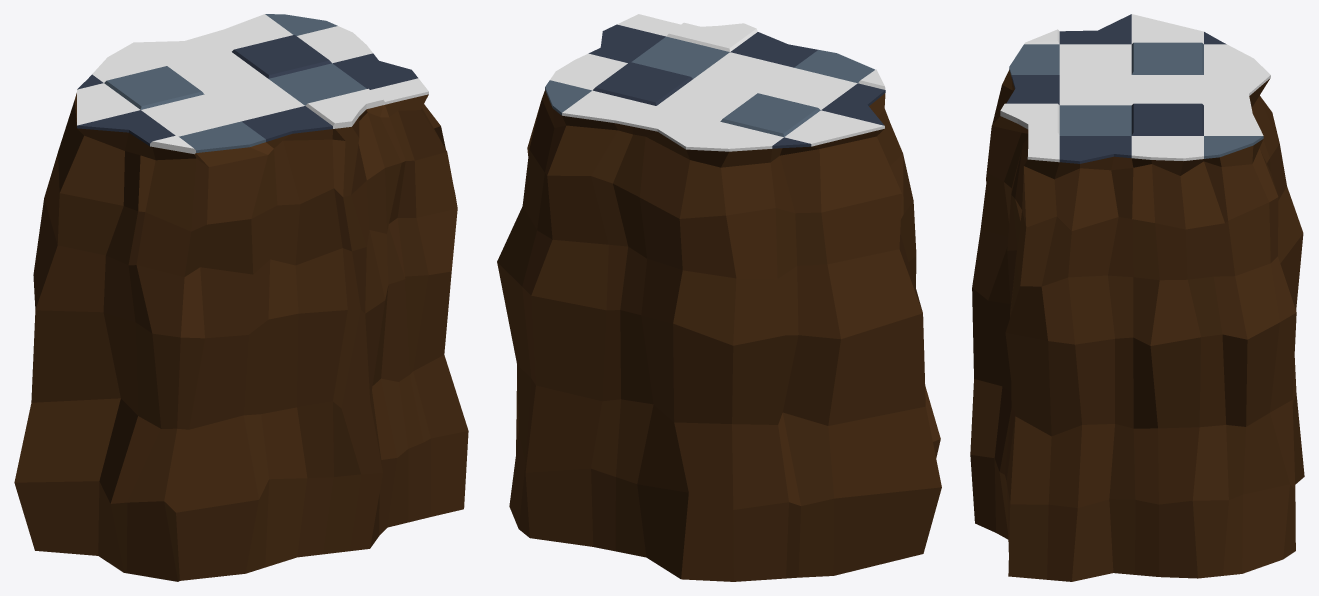
The model's file is road_island.fbx.
3 renders of one model, left to right at view 1: azimuth 30°, elevation 25°; view 2: azimuth 150°, elevation 25°; view 3: azimuth 270°, elevation 25°, orthographic. The views are drawn at different scales.
Visible parts, largest first — view 1: road_line_stop_island; view 2: road_line_stop_island; view 3: road_line_stop_island.
Part boxes in pixels (x1,y1,x2,y2): road_line_stop_island: (14,14,468,581); road_line_stop_island: (497,14,941,581); road_line_stop_island: (970,14,1304,581).
Bounding box in the file's own units: 313 × 315 × 232.
